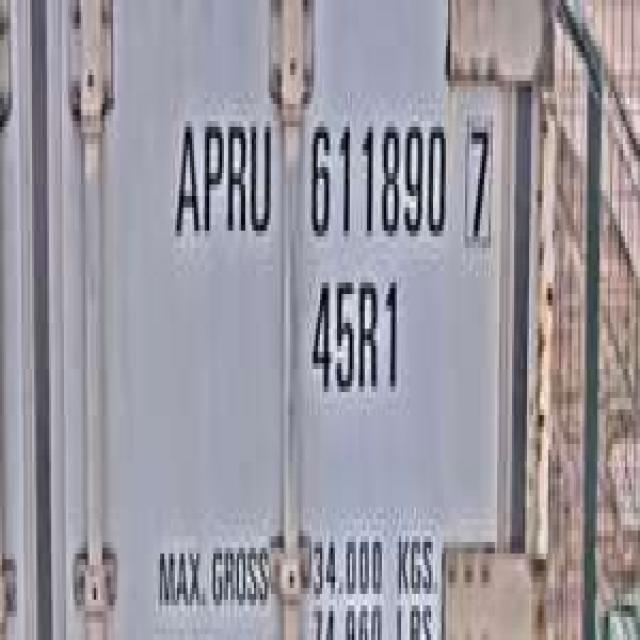dv: (459, 104, 497, 254)
owner: (169, 92, 275, 248)
serial: (303, 92, 450, 248)
size: (305, 260, 403, 410)
